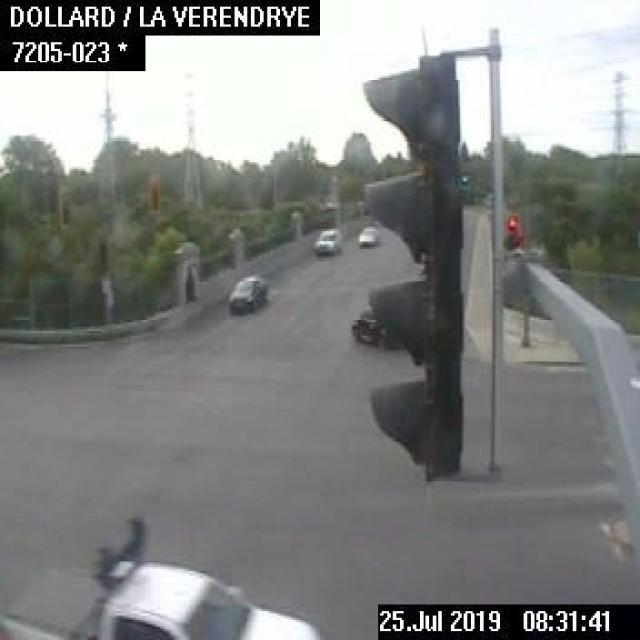vehicle: (0, 511, 320, 638), (349, 306, 391, 346), (227, 273, 269, 311), (314, 227, 344, 253), (355, 223, 376, 247)
